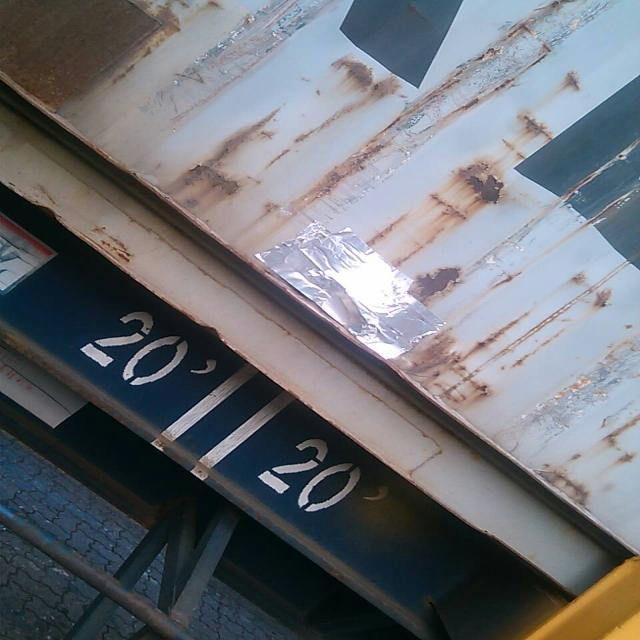rust: (388, 313, 538, 408), (168, 104, 301, 206), (320, 55, 418, 113), (447, 154, 521, 215), (535, 458, 599, 510), (511, 104, 567, 149), (405, 262, 472, 296), (558, 67, 584, 98)
